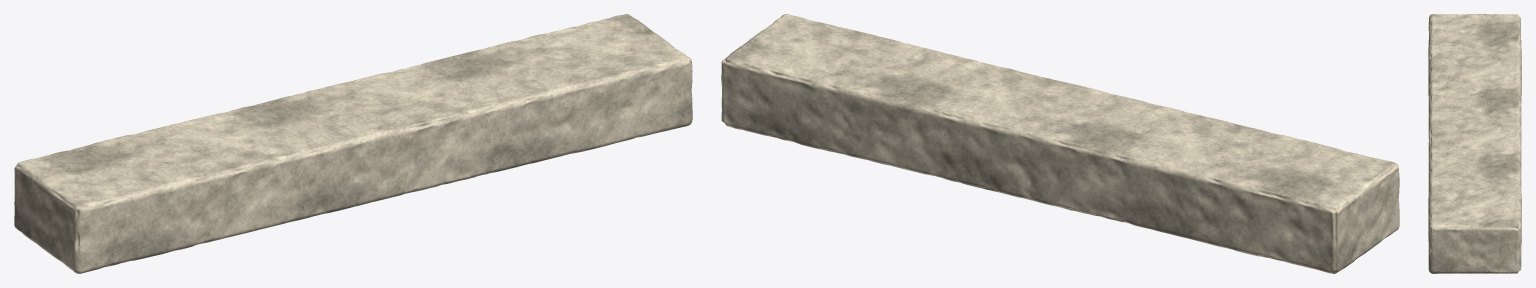
File: stone_lintel.glb
3 renders of one model, left to right at view 1: azimuth 30°, elevation 25°; view 2: azimuth 150°, elevation 25°; view 3: azimuth 270°, elevation 25°, orthographic. The views are drawn at different scales.
Parts seen in each view (by area): view 1: stone_lintel; view 2: stone_lintel; view 3: stone_lintel.
Boxes of the visible parts, left/top/right/bottom form: stone_lintel: left=14, top=14, right=692, bottom=273; stone_lintel: left=721, top=14, right=1399, bottom=273; stone_lintel: left=1428, top=14, right=1521, bottom=273.
Size of the model in its own units: 5.2 by 0.555 by 0.9576.
1 material, 1 textured.
